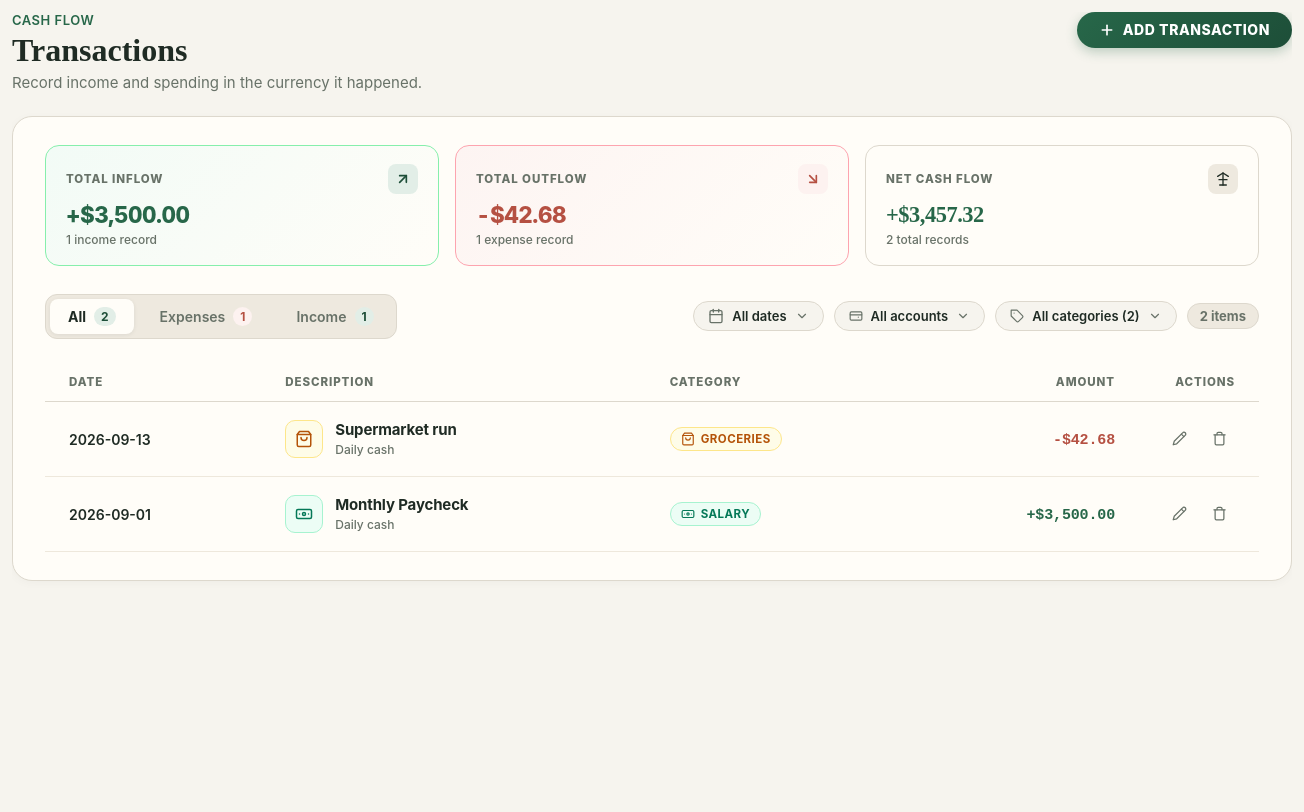
Test: FinancialRecordsView › filters by date preset and allows custom date range selection
Click the dropdown named "filter by date range". click: (758, 316)
box: [693,301,824,331]
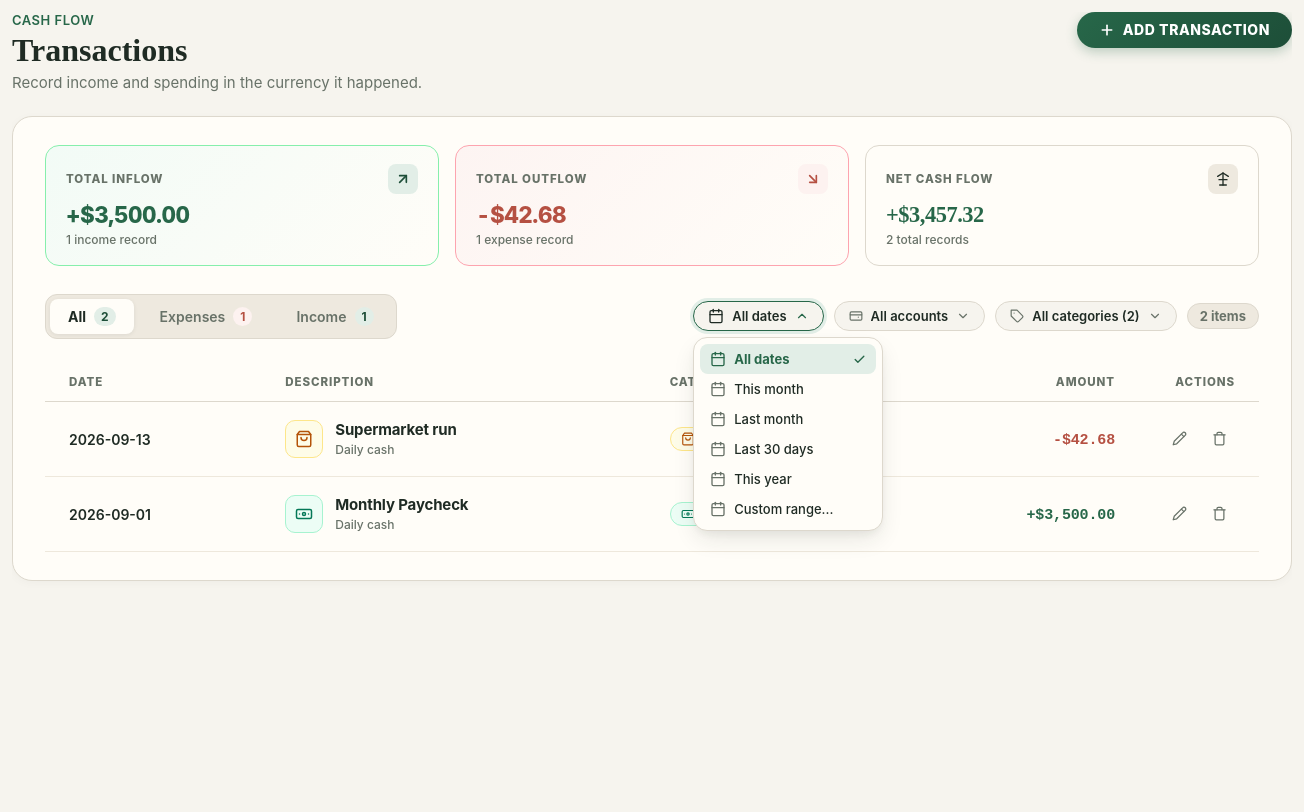
Click the option "Custom range...". click: (772, 509)
box: [710,501,833,517]
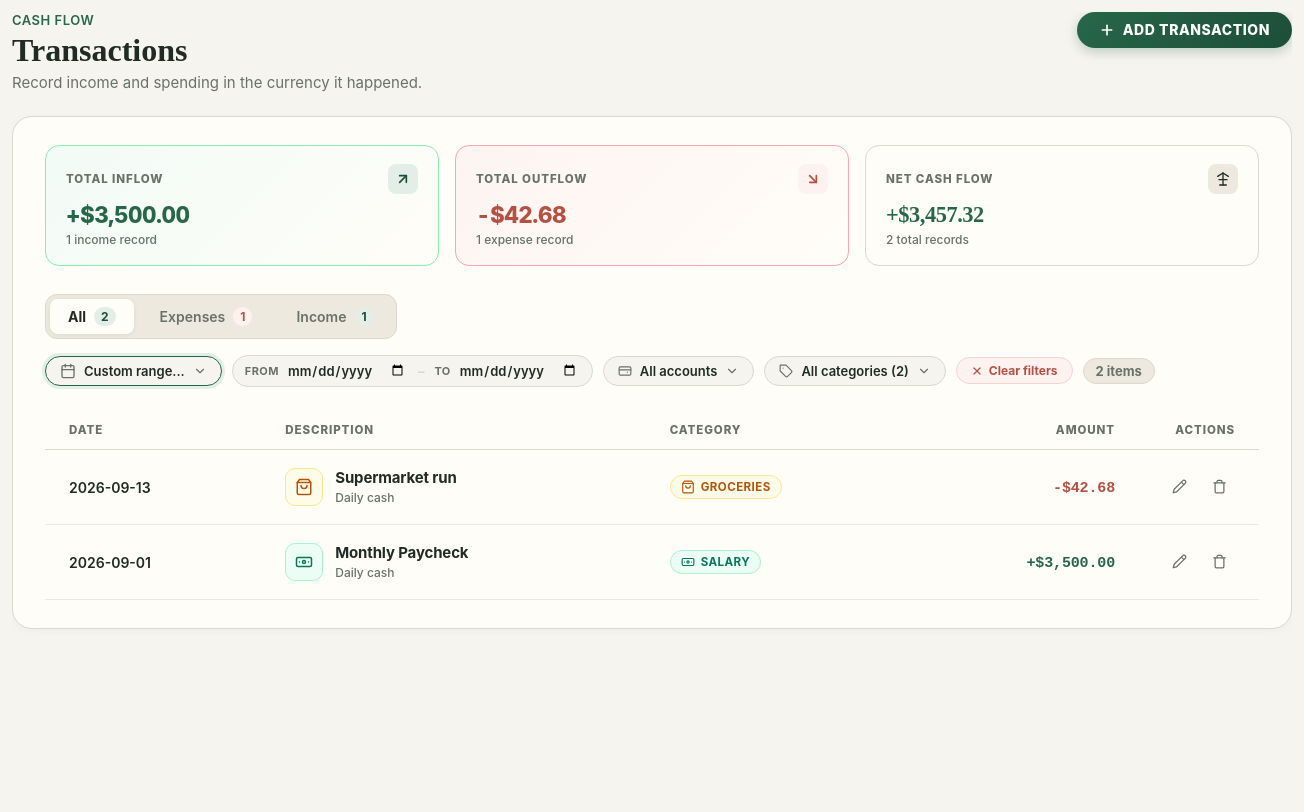
Now the date field named "start date" is shown
Now the date field named "end date" is shown, box [455,360,580,382]
Note: Set custom date that excludes initialExpense (2026-09-13) but includes initialIncome (2026-09-01)
Type "2026-09-01" into the date field named "start date". click: (345, 371)
box: [283,360,408,382]
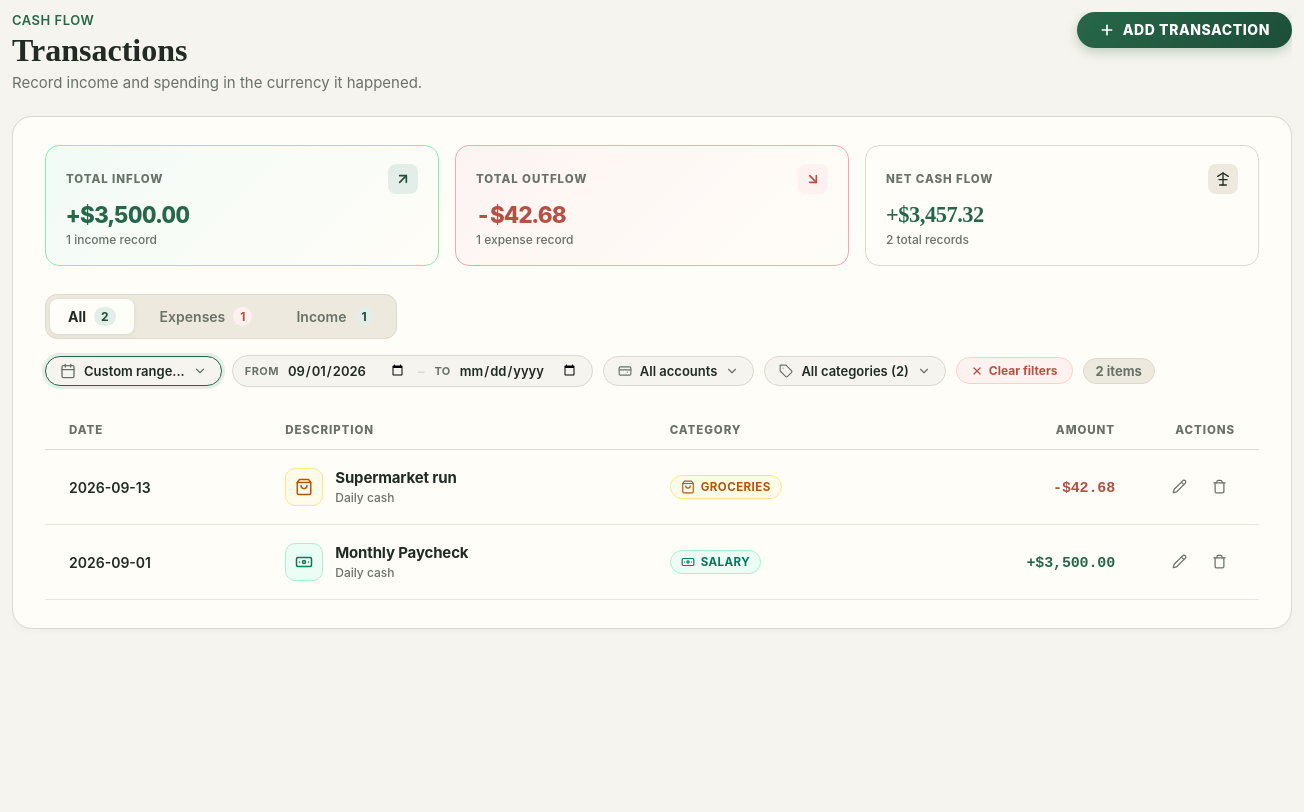
Type "2026-09-05" into the date field named "end date". click: (517, 371)
box: [455,360,580,382]
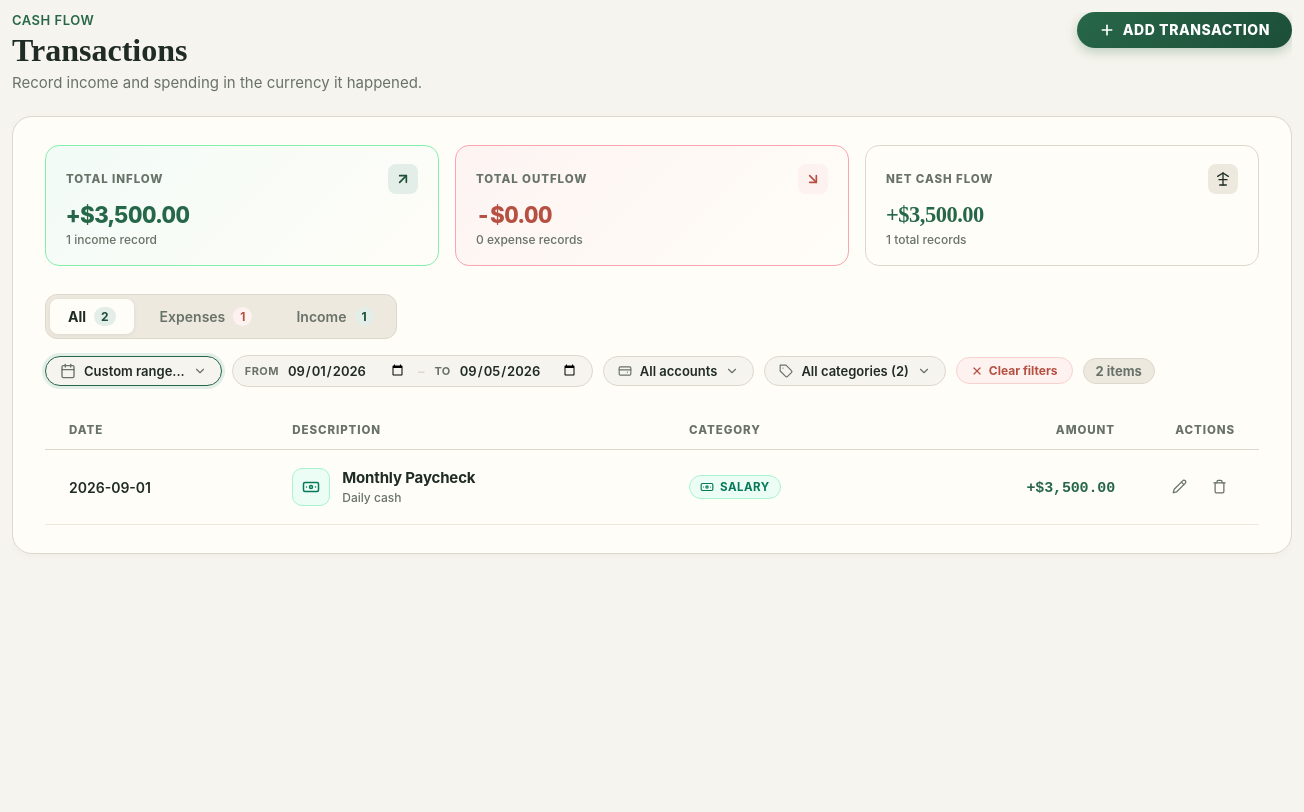
Expected: the text "Monthly Paycheck" is shown, [342,468,475,487]
Now the text "Supermarket run" is gone
Note: Clear filters button should be present and resets filters
Click the button "Clear filters". click: (1014, 371)
box: [956,357,1072,384]
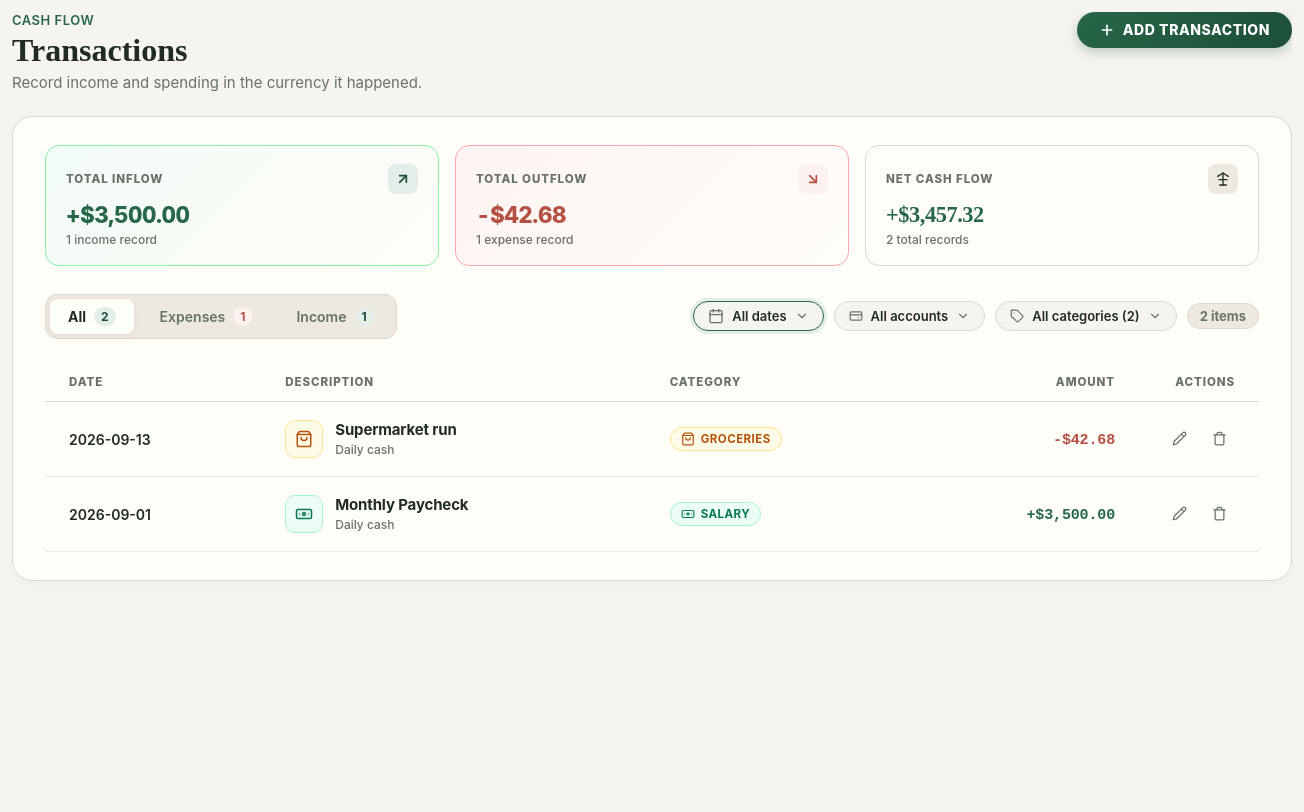
Expected: the text "Monthly Paycheck" is shown, [335,495,468,514]
Now the text "Supermarket run" is shown, box [335,420,457,439]
Now the date field labelled "start date" is gone
